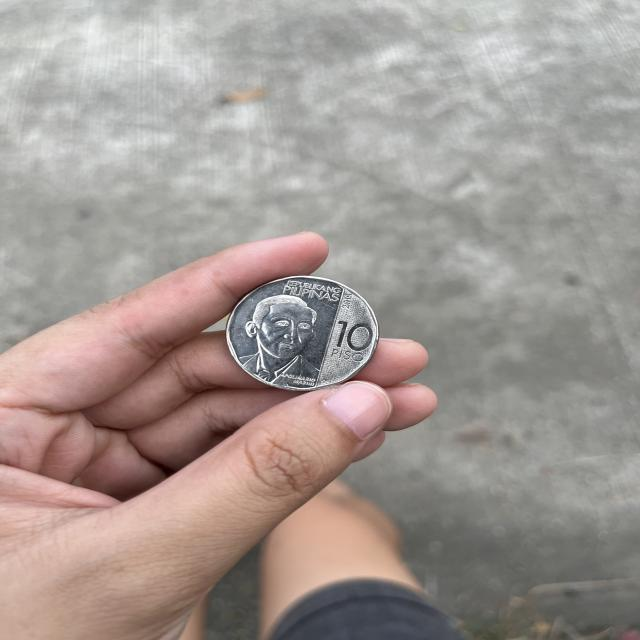10_New_Front: (330, 316, 374, 366)
